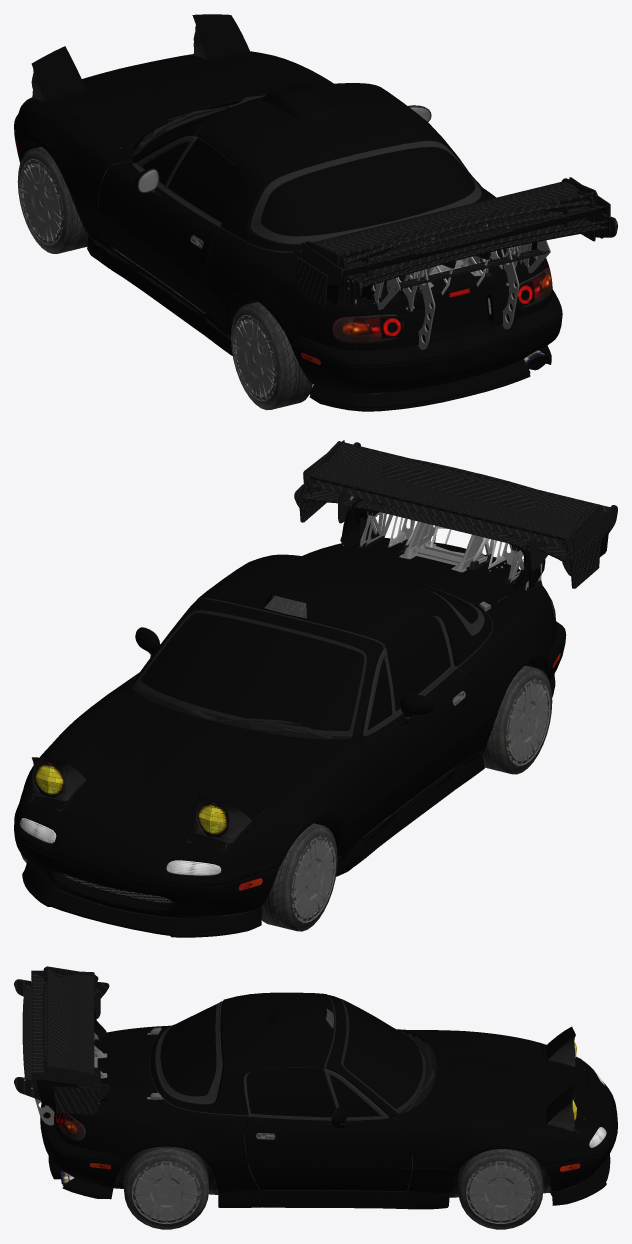
3 renders of one model, top to bottom at view 1: azimuth 30°, elevation 25°; view 2: azimuth 150°, elevation 25°; view 3: azimuth 270°, elevation 25°, orthographic. The views are drawn at different scales.
Visible parts, largest first — view 1: Mx5, RearBumper2, Hood1, Hood, RearBumper, Spoiler9, Spoiler5, Spoiler3, Lights_On, W1_001, SideSkirt2, Spoiler7 (+11 smaller); view 2: Mx5, Hood1, FrontBumper2, Hood, Spoiler9, FrontBumper, Spoiler10, Spoiler3, SideSkirt2, W1, FrontBumper3, W1_001 (+16 smaller); view 3: Mx5, Hood1, Hood, Spoiler9, SideSkirt, W1_002, W1_003, FrontBumper2, FrontBumper, SideSkirt2, RearBumper2, Spoiler3 (+19 smaller).
Boxes of the visible parts, x1,y1,x2,y2 form: Mx5: (15, 51, 552, 350); RearBumper2: (284, 291, 562, 408); Hood1: (47, 54, 319, 151); Hood: (48, 53, 322, 151); RearBumper: (285, 290, 562, 394); Spoiler9: (304, 178, 597, 286); Spoiler5: (338, 213, 617, 311); Spoiler3: (301, 177, 610, 309); Lights_On: (30, 14, 250, 102); W1_001: (232, 302, 312, 409); SideSkirt2: (70, 192, 232, 355); Spoiler7: (360, 204, 568, 349); Mx5: (15, 538, 556, 875); Hood1: (56, 687, 344, 838); FrontBumper2: (14, 801, 279, 935); Hood: (55, 687, 345, 841); Spoiler9: (306, 441, 601, 572); FrontBumper: (14, 802, 278, 918); Spoiler10: (312, 448, 589, 591); Spoiler3: (303, 440, 614, 583); SideSkirt2: (336, 710, 498, 876); W1: (261, 823, 336, 930); FrontBumper3: (23, 859, 274, 937); W1_001: (482, 665, 550, 773); Mx5: (51, 992, 579, 1197); Hood1: (406, 1030, 589, 1123); Hood: (406, 1030, 589, 1123); Spoiler9: (43, 966, 107, 1082); SideSkirt: (210, 1114, 459, 1198); W1_002: (124, 1146, 208, 1224); W1_003: (458, 1149, 541, 1224); FrontBumper2: (544, 1058, 617, 1205); FrontBumper: (543, 1058, 617, 1195); SideSkirt2: (218, 1196, 449, 1209); RearBumper2: (40, 1101, 129, 1196); Spoiler3: (31, 970, 98, 1087).
Size of the model in its own units: 1.46 by 1.01 by 3.29.
